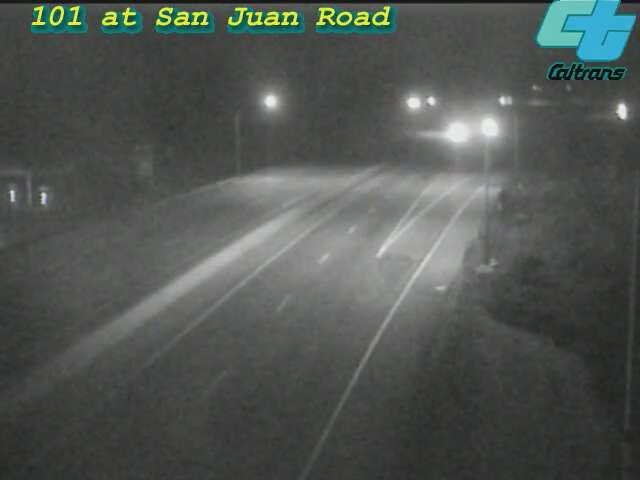vehicle: (430, 106, 480, 156), (464, 103, 514, 153), (596, 87, 640, 137)
